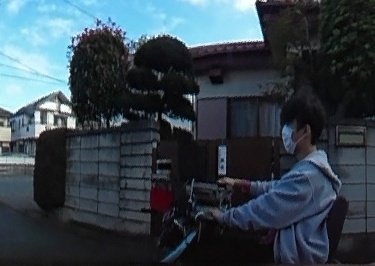person: (241, 90, 340, 266)
